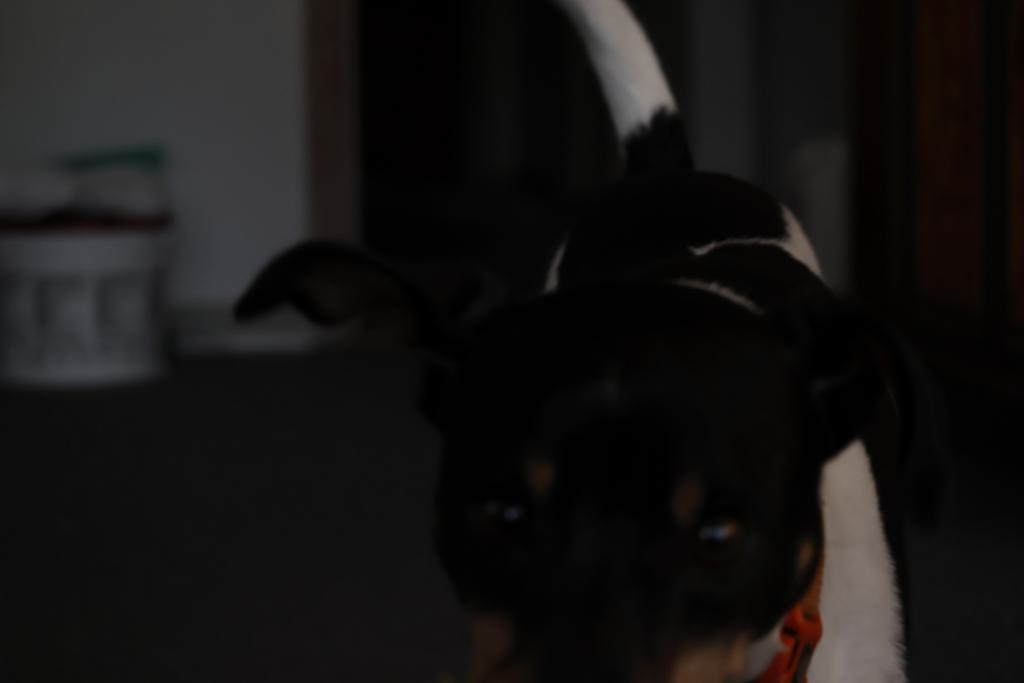Dog: (221, 0, 917, 683)
